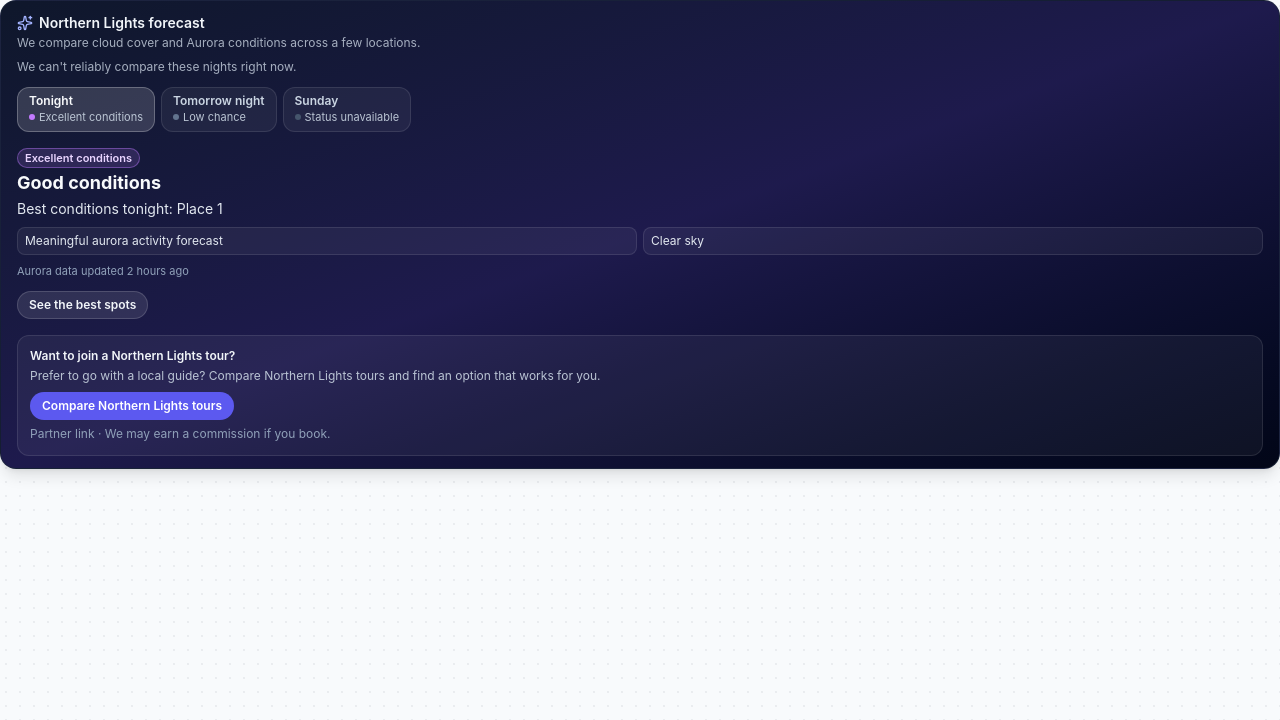
Scenario: truthful update time and aging › shows each resolved night's own Aurora data update time (fresh and poor included), switching with the selected date
Expected: the element with test id "nl3-result" is shown, x1=17 y1=144 x2=1263 y2=319
Expected: the text with test id "nl3-data-updated" reads "Aurora data updated 2 hours ago", x1=17 y1=264 x2=189 y2=278
Click the button "Tomorrow night Low chance" at [219, 109], box x1=161 y1=87 x2=277 y2=132
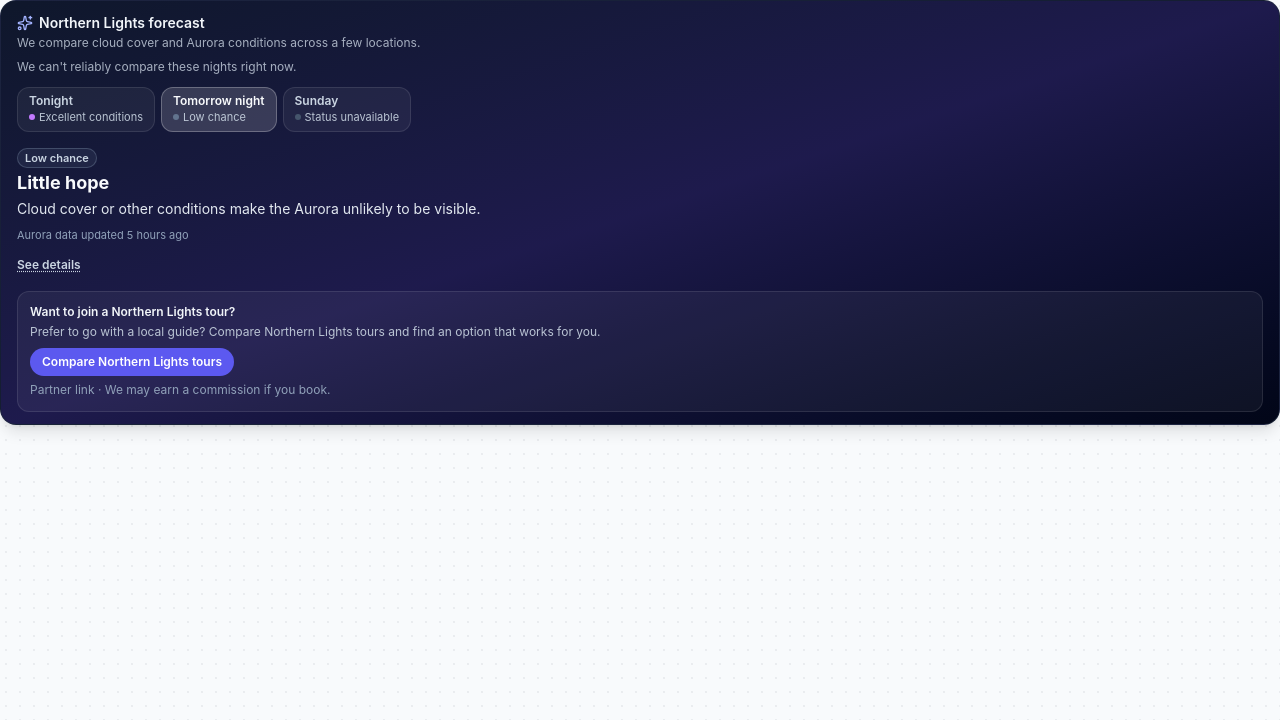
Result: the element with test id "nl3-all-poor" is shown at x1=17 y1=148 x2=480 y2=273
Result: the text with test id "nl3-data-updated" reads "Aurora data updated 5 hours ago" at x1=17 y1=228 x2=189 y2=242
